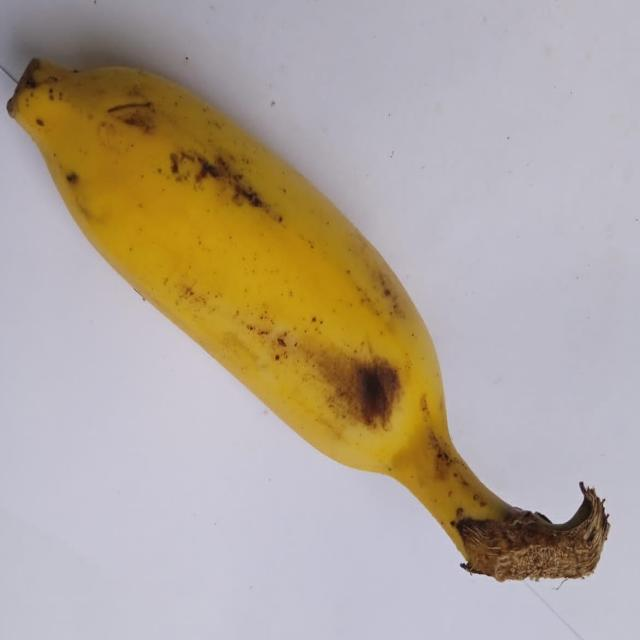banana: (8, 60, 608, 580)
